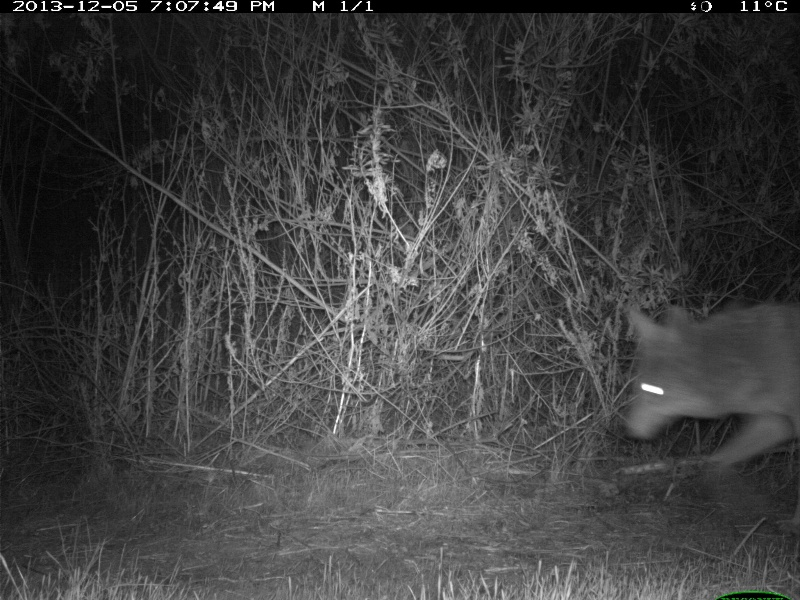coyote: (620, 298, 800, 475)
